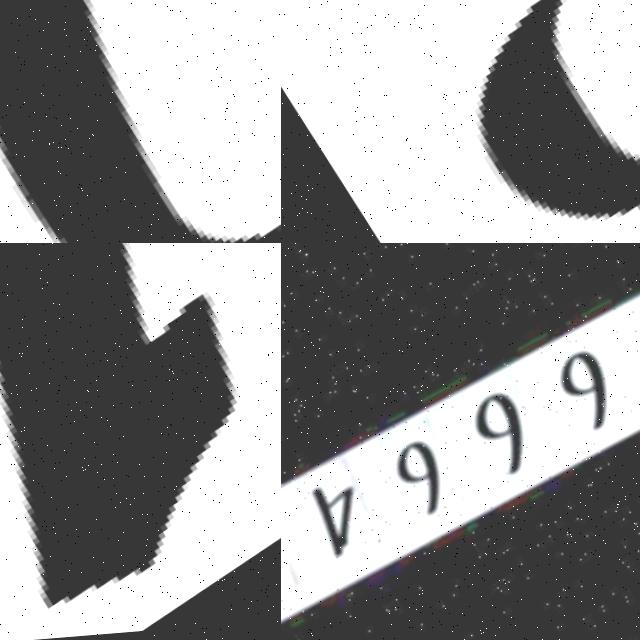0: (281, 489, 318, 628)
1: (0, 243, 281, 640)
4: (281, 445, 407, 592)
6: (436, 365, 576, 517), (520, 323, 640, 473), (360, 414, 486, 552)
8: (599, 273, 640, 436)
D: (0, 0, 281, 243)
R: (281, 0, 640, 243)
